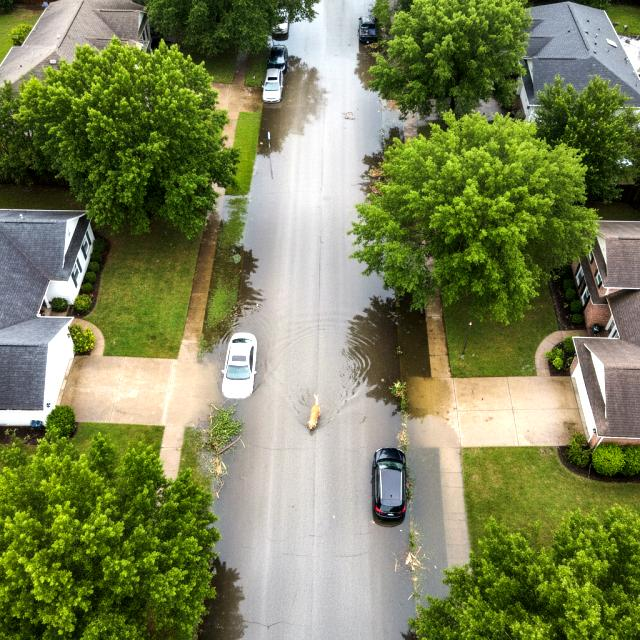dog: (299, 391, 331, 438)
